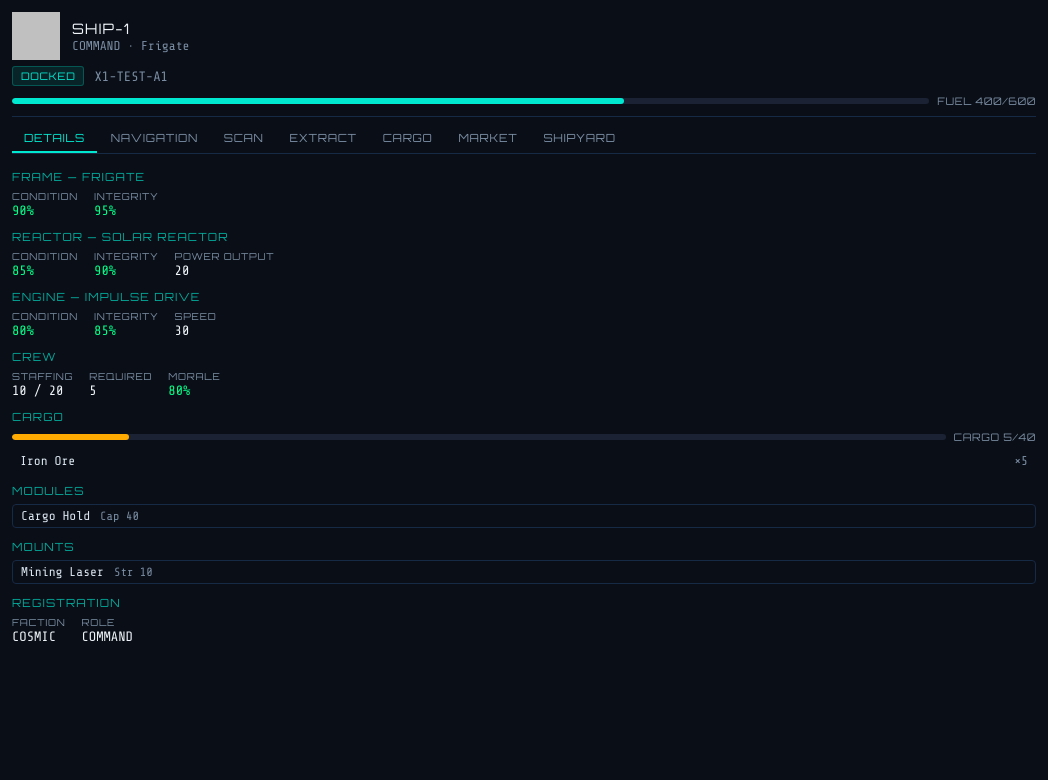
Scenario: FlightControl › shows scan hint when not in orbit
Click the button "Scan". click: click(244, 139)
box: 212,125 -> 276,153
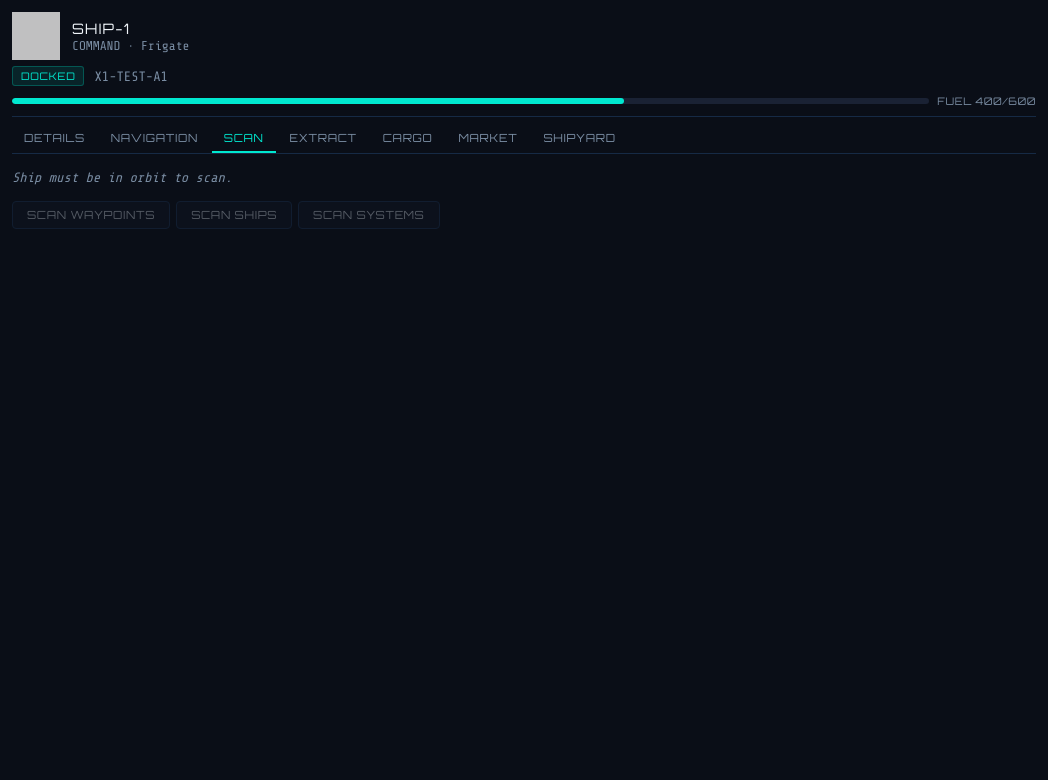
Check: the text "Ship must be in orbit to scan." is shown, box 12,170 -> 232,185
